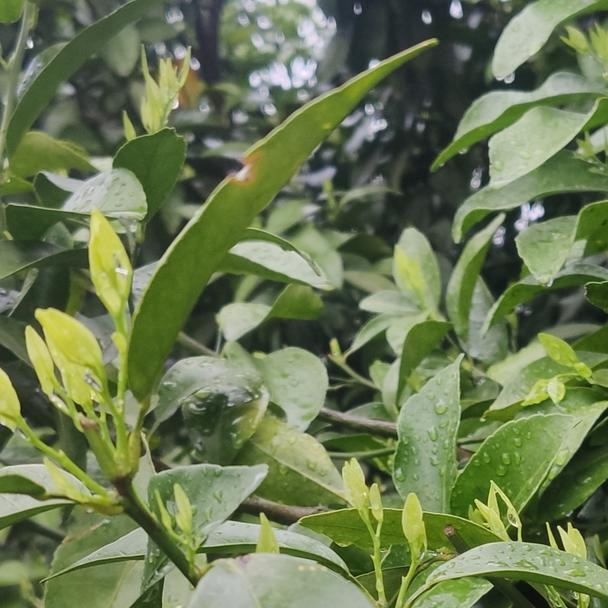shoot: (121, 46, 199, 172), (34, 310, 113, 415), (87, 215, 145, 327), (339, 461, 395, 539), (395, 491, 447, 560)
